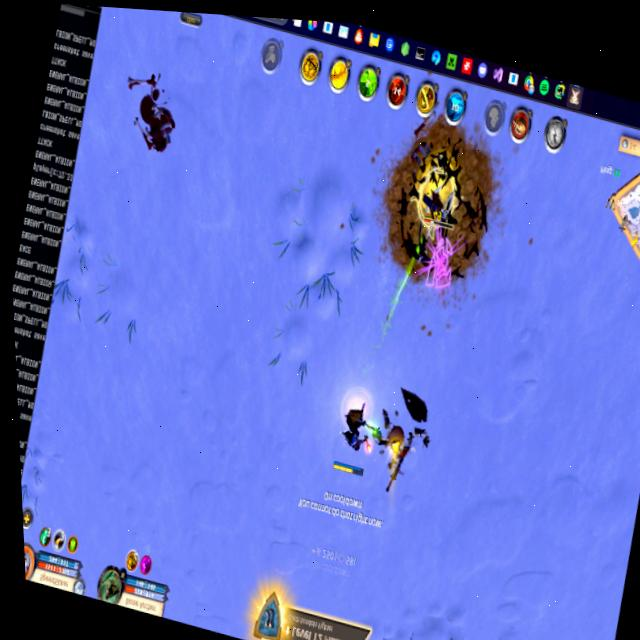ore: (409, 153, 469, 240)
red: (322, 384, 388, 487)
